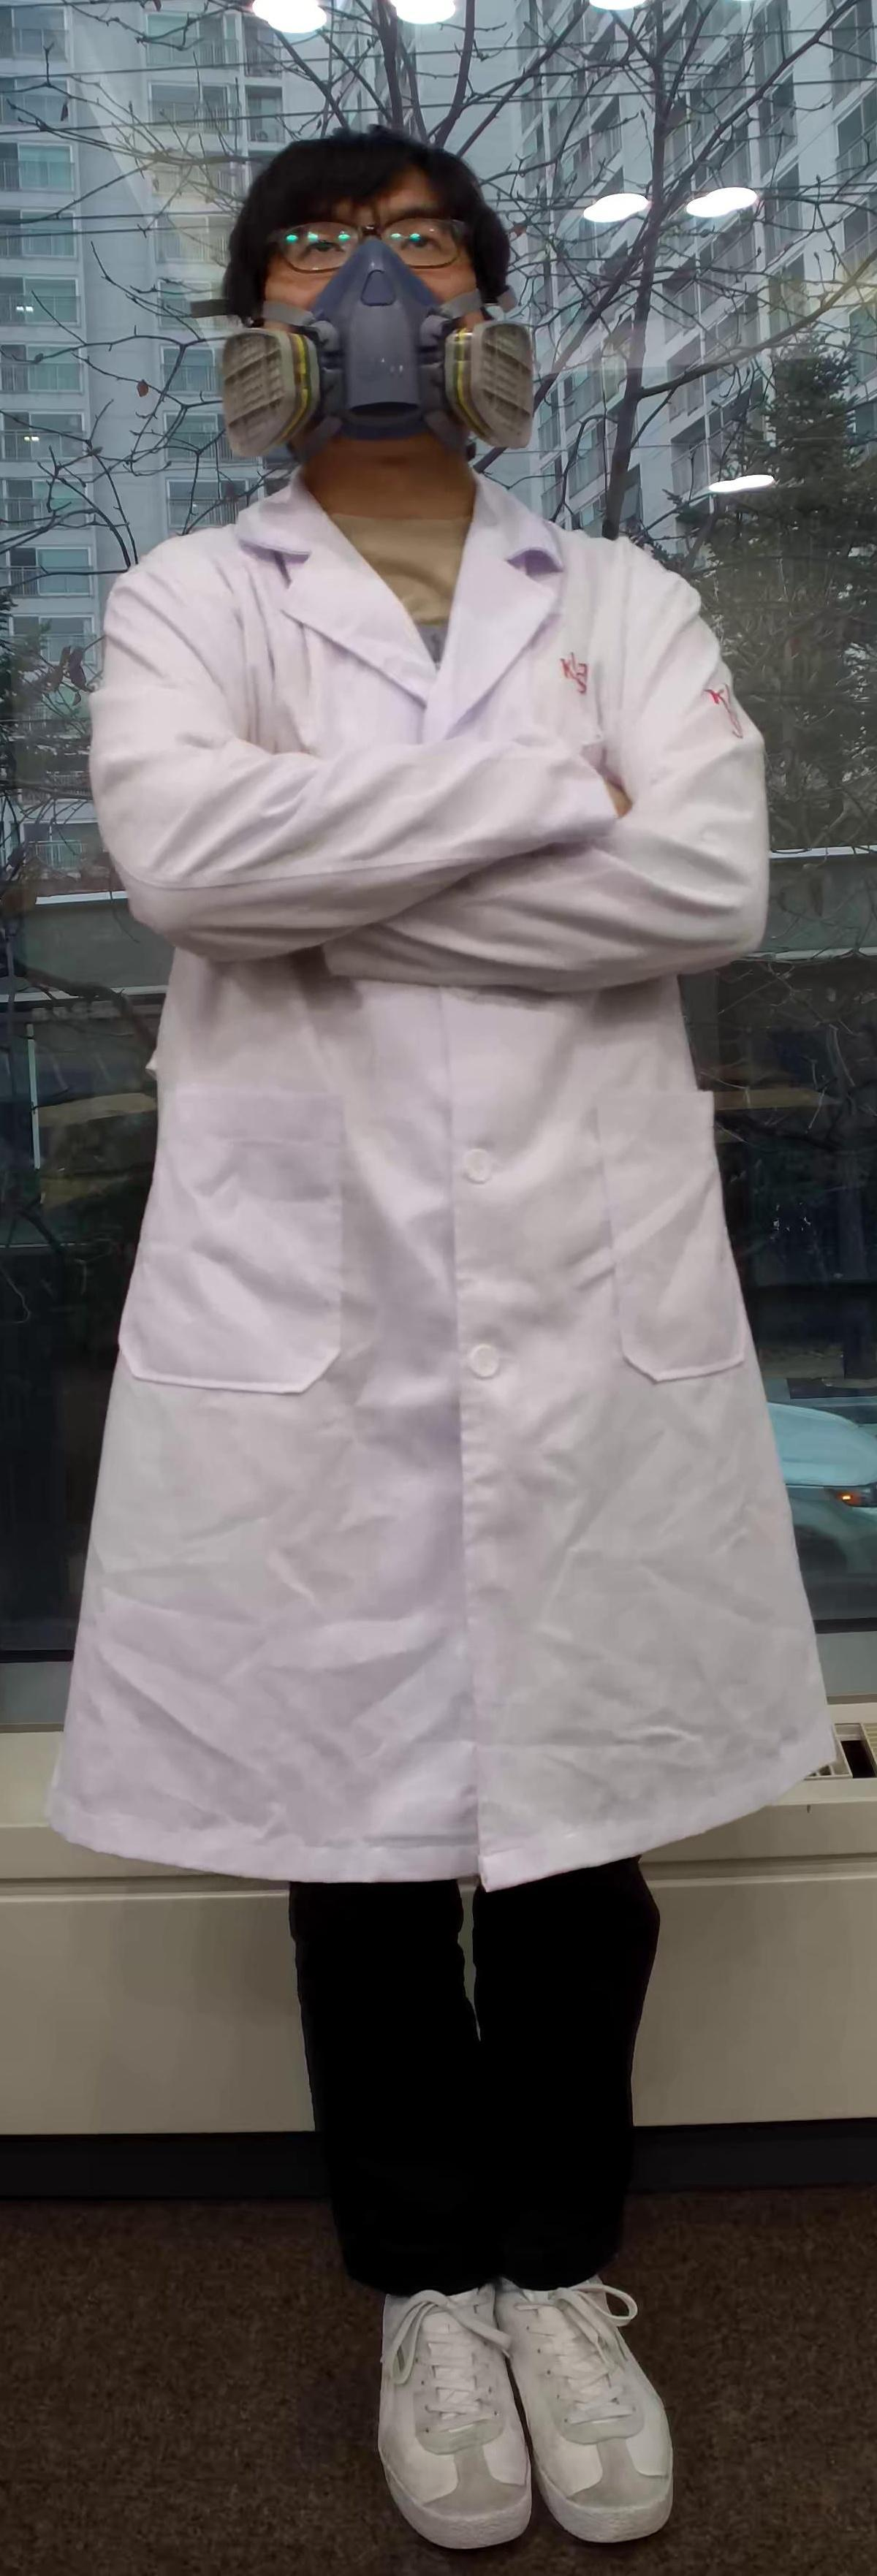lab_coat: (2, 557, 877, 1861)
